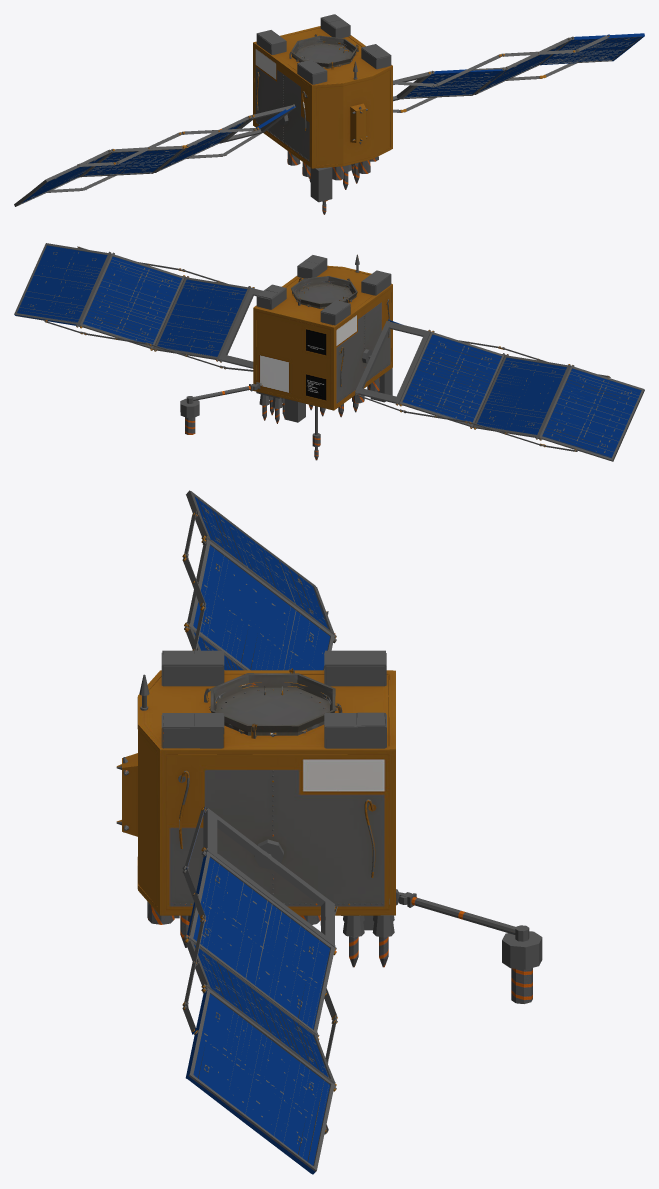
The model's file is navstar.obj.
3 views of the same model, one above another, from view 1: azimuth 30°, elevation 25°; view 2: azimuth 150°, elevation 25°; view 3: azimuth 270°, elevation 25° (orthographic). The views are drawn at different scales.
Parts seen in each view (by area): view 1: GPS_Satellite_Navstar_Block_IIF; view 2: GPS_Satellite_Navstar_Block_IIF; view 3: GPS_Satellite_Navstar_Block_IIF.
Part boxes in pixels (<box>): GPS_Satellite_Navstar_Block_IIF: <box>14,14,644,214</box>; GPS_Satellite_Navstar_Block_IIF: <box>14,243,644,461</box>; GPS_Satellite_Navstar_Block_IIF: <box>116,490,542,1174</box>.
Bounding box in the file's own units: 2.02 × 0.5824 × 0.6232.
